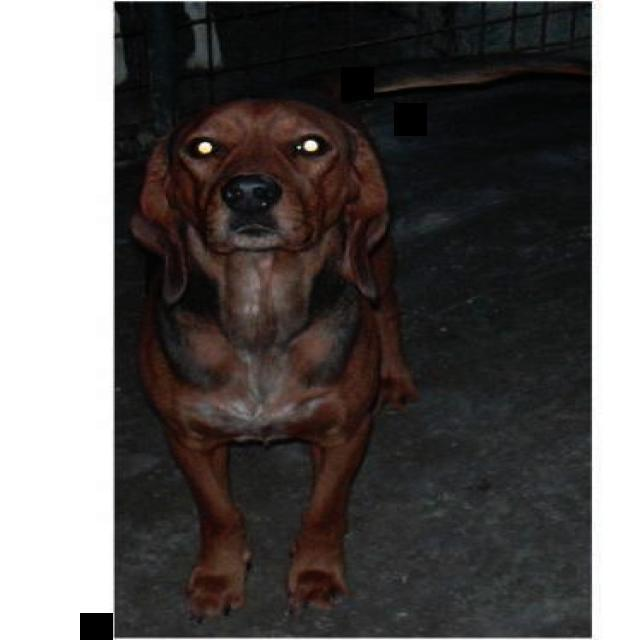adult_dog: (128, 95, 418, 623)
